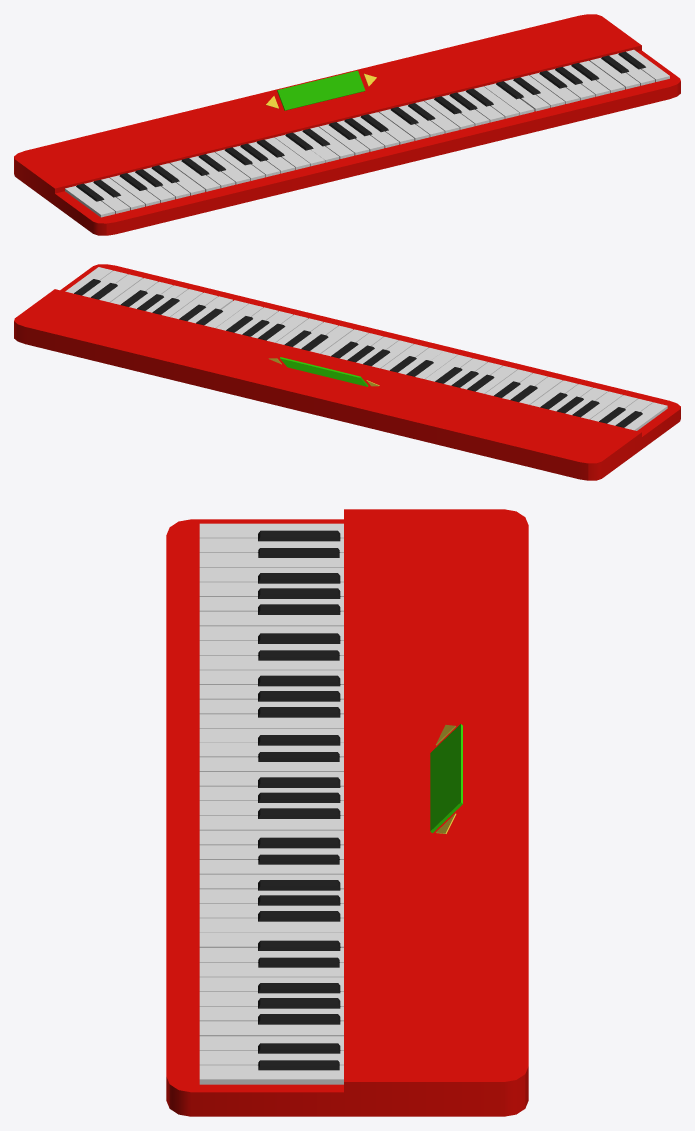
File: bigger_piano.gltf
3 views of the same model, one above another, from view 1: azimuth 30°, elevation 25°; view 2: azimuth 150°, elevation 25°; view 3: azimuth 270°, elevation 25° (orthographic). The views are drawn at different scales.
Visible parts, largest first — view 1: Piano Frame, Screen, Key_C1, Key_C4, Key_C2, Key_C5, Key_C6, Key_C3, Key_B2, Key_B3, Key_B4, Key_B1 (+28 smaller); view 2: Piano Frame, Screen, Key_C1, Key_C6, Key_C2, Key_C5, Key_C4, Key_C3, Key_B3, Key_B1, Key_B2, Key_B4 (+28 smaller); view 3: Piano Frame, Screen, Key_E6, Key_B5, Key_B3, Key_B1, Key_B2, Key_B4, Key_E2, Key_E5, Key_E4, Key_E1 (+53 smaller).
Boxes of the visible parts, box(x1,y1,x2,y2) form: Piano Frame: box(14, 14, 680, 235); Screen: box(277, 70, 365, 110); Key_C1: box(65, 185, 114, 217); Key_C4: box(379, 109, 429, 140); Key_C2: box(170, 160, 220, 191); Key_C5: box(484, 83, 534, 115); Key_C6: box(590, 57, 639, 89); Key_C3: box(274, 134, 324, 166); Key_B2: box(265, 137, 310, 169); Key_B3: box(369, 112, 414, 144); Key_B4: box(474, 86, 519, 118); Key_B1: box(159, 163, 204, 195); Piano Frame: box(14, 264, 680, 480); Screen: box(280, 357, 368, 386); Key_C1: box(624, 402, 667, 430); Key_C6: box(99, 274, 142, 302); Key_C2: box(519, 376, 562, 404); Key_C5: box(204, 300, 248, 328); Key_C4: box(310, 325, 353, 353); Key_C3: box(415, 351, 457, 379); Key_B3: box(321, 329, 368, 356); Key_B1: box(530, 380, 577, 407); Key_B2: box(425, 354, 472, 381); Key_B4: box(216, 303, 263, 330); Piano Frame: box(166, 509, 528, 1116); Screen: box(430, 724, 462, 833); Key_E6: box(199, 1065, 343, 1084); Key_B5: box(199, 1021, 343, 1036); Key_B3: box(199, 815, 343, 830); Key_B1: box(199, 611, 343, 626); Key_B2: box(199, 714, 343, 728); Key_B4: box(199, 918, 343, 932); Key_E2: box(199, 655, 343, 670); Key_E5: box(199, 962, 343, 977); Key_E4: box(199, 860, 343, 874); Key_E1: box(199, 553, 343, 567).
Size of the model in its own units: 10.35 by 0.5553 by 2.77.
